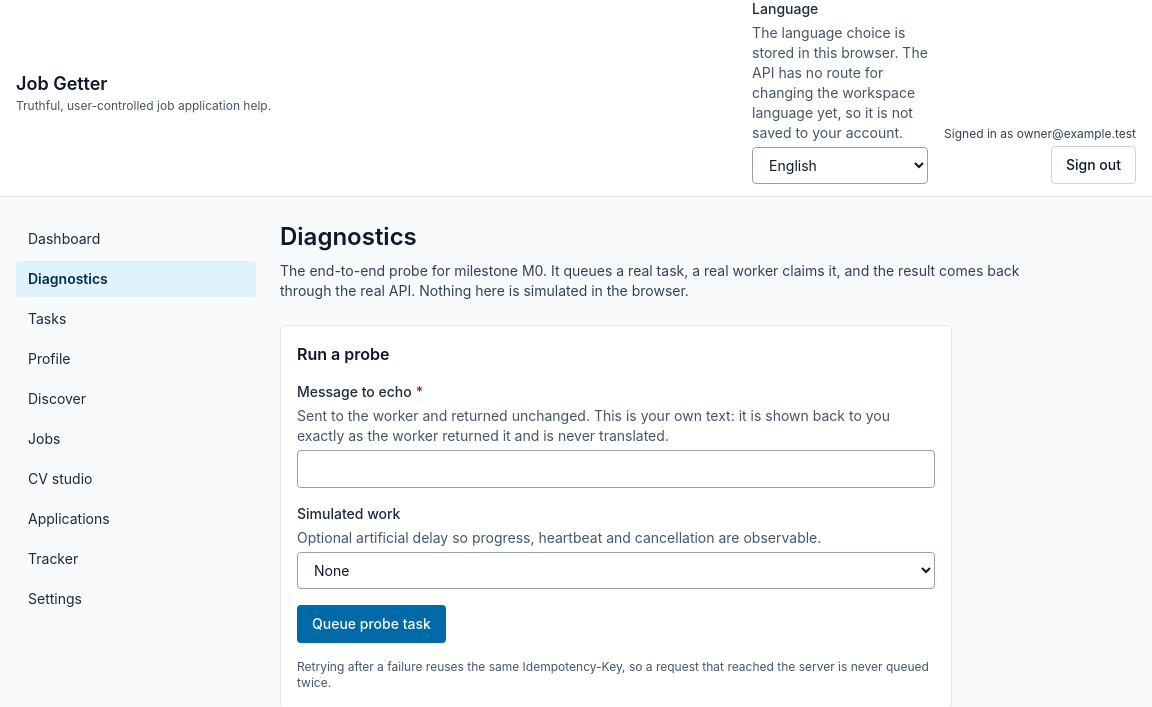
it: diagnostics screen › renders the real failure code and message, and no success state
Type "hola mundo" into the field labelled "Message to echo*" at coordinates (616, 469), box left=297, top=450, right=935, bottom=488
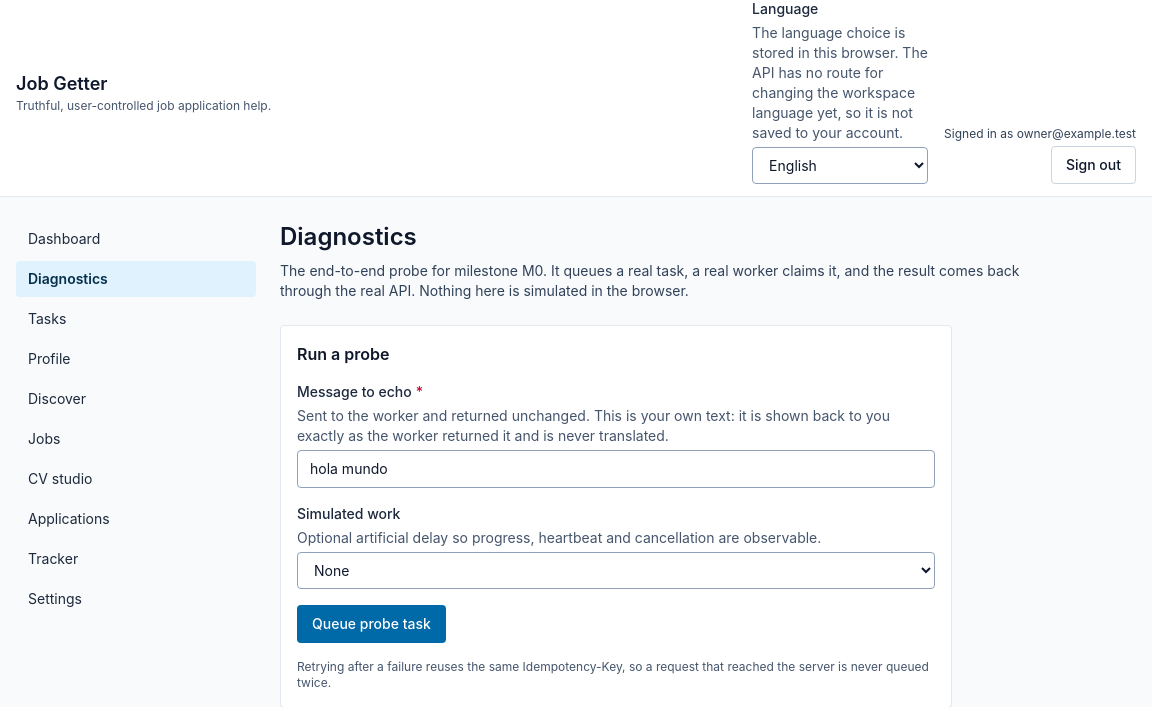
Click the button "Queue probe task" at coordinates (371, 624), box left=297, top=605, right=446, bottom=643
(page scrolled)
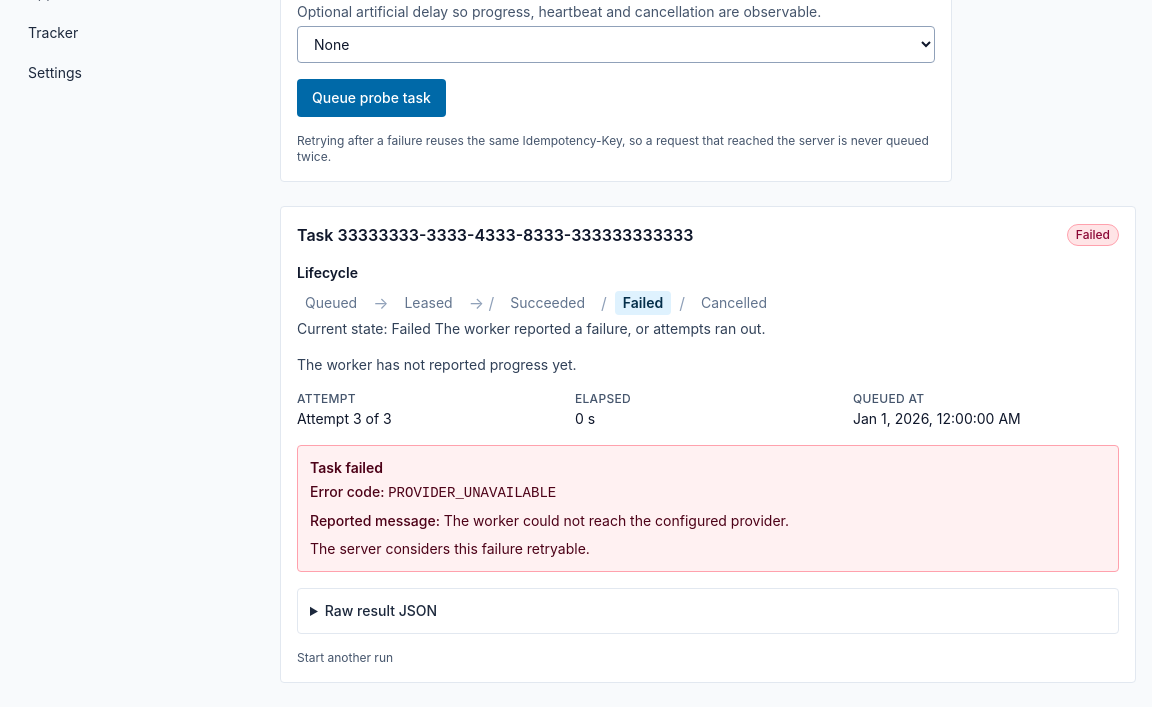
expect the text "Task failed" is shown: met, box left=310, top=459, right=383, bottom=476
expect the text with test id "failure-code" reads "PROVIDER_UNAVAILABLE": met, box left=388, top=485, right=556, bottom=501
expect the element with test id "failure-message" shows "The worker could not reach the configured provider.": met, box left=444, top=512, right=789, bottom=529
